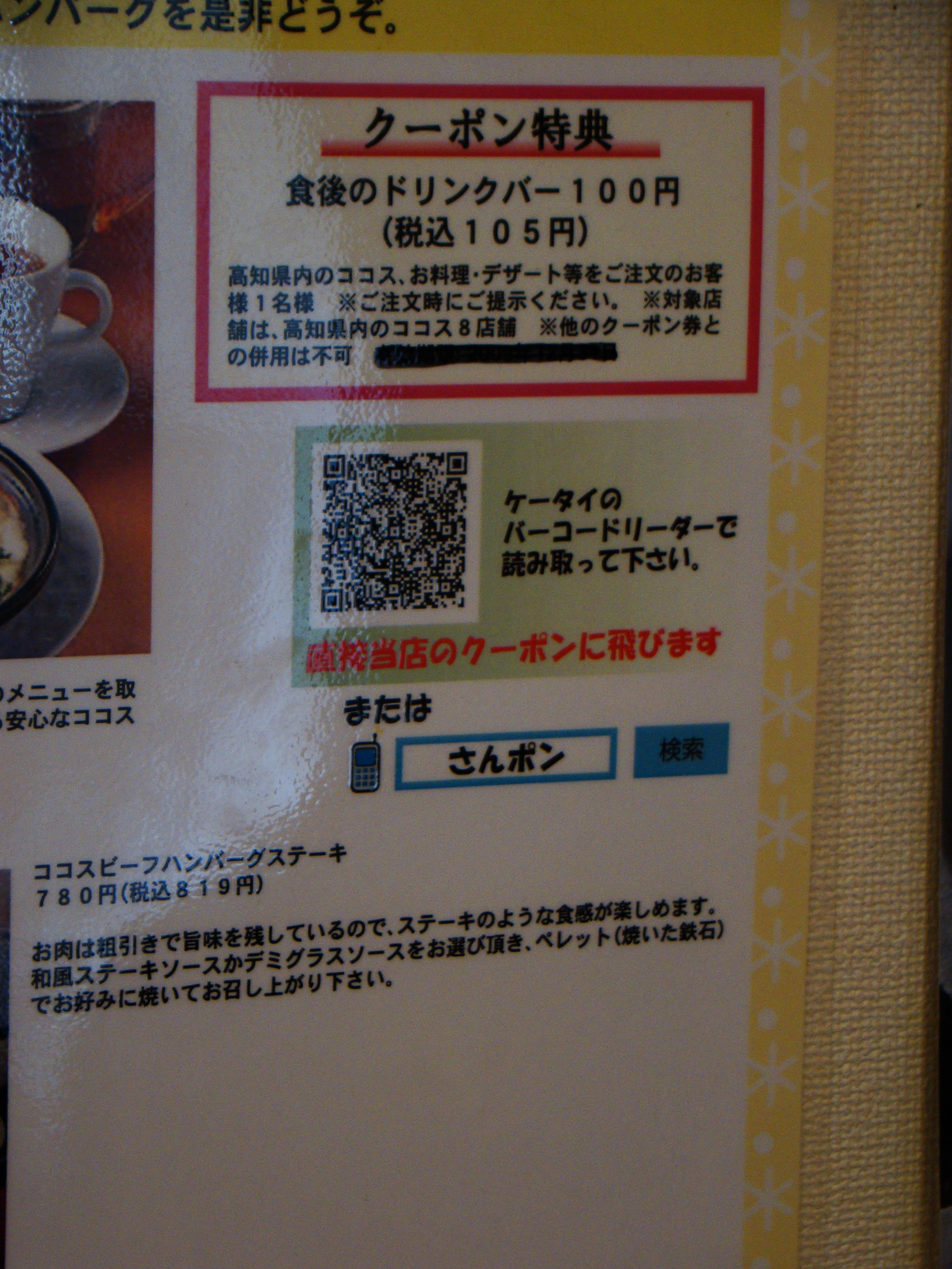QR-CODE: (321, 452, 467, 612)
